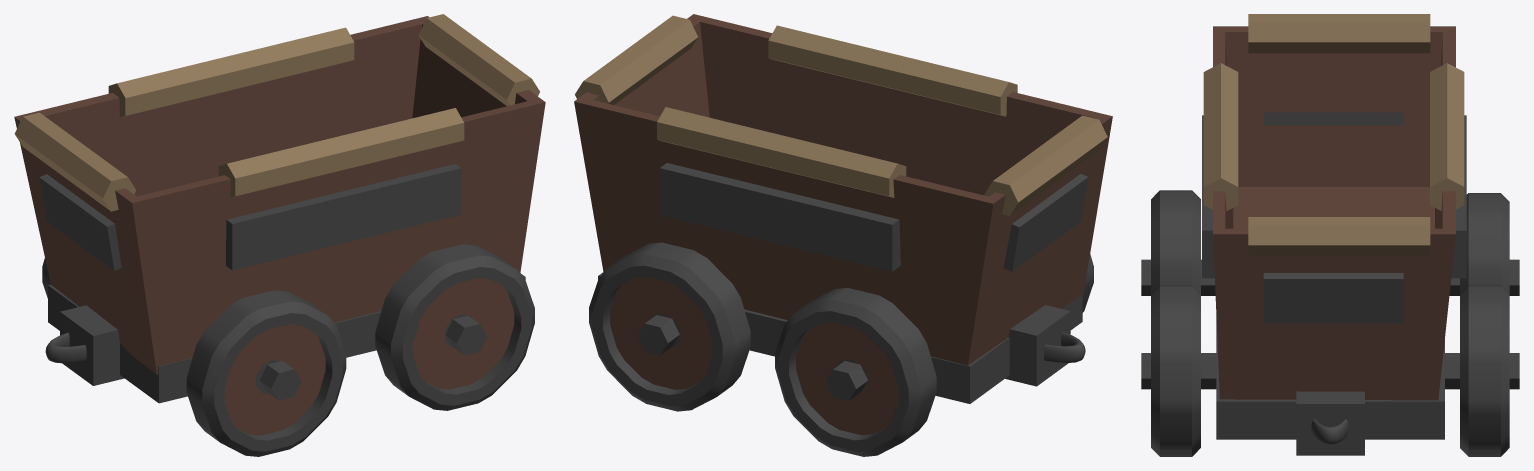
Rendered from mine_cart.fbx.
3 renders of one model, left to right at view 1: azimuth 30°, elevation 25°; view 2: azimuth 150°, elevation 25°; view 3: azimuth 270°, elevation 25°, orthographic. The views are drawn at different scales.
Parts seen in each view (by area): view 1: pCube12, pCylinder3, pCylinder5, pCube14, pCylinder12, pCylinder13, pCylinder10, pCylinder11, pCube1, pCube15, pCube2, pCylinder9 (+2 smaller); view 2: pCube12, pCylinder6, pCylinder7, pCube13, pCylinder13, pCylinder12, pCylinder10, pCube1, pCylinder11, pCube15, pCube2, pCylinder9 (+2 smaller); view 3: pCube12, pCylinder5, pCylinder6, pCylinder11, pCylinder10, pCube16, pCube1, pCylinder13, pCylinder3, pCylinder12, pCylinder7, pCube3 (+6 smaller).
Part boxes in pixels (bbox=[...]): pCube12: bbox=[14, 16, 545, 374]; pCylinder3: bbox=[186, 290, 346, 456]; pCylinder5: bbox=[375, 244, 534, 410]; pCube14: bbox=[226, 164, 461, 270]; pCylinder12: bbox=[108, 27, 354, 117]; pCylinder13: bbox=[218, 108, 464, 197]; pCylinder10: bbox=[14, 112, 136, 211]; pCylinder11: bbox=[418, 14, 539, 105]; pCube1: bbox=[48, 273, 525, 403]; pCube15: bbox=[39, 174, 121, 270]; pCube2: bbox=[60, 305, 124, 385]; pCylinder9: bbox=[259, 361, 301, 400]; pCube12: bbox=[574, 14, 1112, 365]; pCylinder6: bbox=[589, 242, 750, 411]; pCylinder7: bbox=[775, 288, 936, 456]; pCube13: bbox=[659, 163, 900, 271]; pCylinder13: bbox=[768, 25, 1017, 116]; pCylinder12: bbox=[657, 107, 906, 197]; pCylinder10: bbox=[984, 115, 1107, 215]; pCube1: bbox=[598, 272, 1082, 403]; pCylinder11: bbox=[575, 15, 697, 104]; pCube15: bbox=[1003, 174, 1088, 271]; pCube2: bbox=[1005, 305, 1070, 386]; pCylinder9: bbox=[825, 361, 867, 401]; pCube12: bbox=[1213, 26, 1455, 400]; pCylinder5: bbox=[1151, 285, 1200, 456]; pCylinder6: bbox=[1460, 285, 1509, 456]; pCylinder11: bbox=[1248, 217, 1430, 256]; pCylinder10: bbox=[1248, 14, 1430, 53]; pCube16: bbox=[1263, 273, 1403, 323]; pCube1: bbox=[1216, 317, 1444, 439]; pCylinder13: bbox=[1203, 63, 1238, 211]; pCylinder3: bbox=[1151, 190, 1200, 293]; pCylinder12: bbox=[1430, 63, 1464, 210]; pCylinder7: bbox=[1460, 193, 1509, 293]; pCube3: bbox=[1296, 391, 1364, 455].
Size of the model in its own units: 2.04 by 1.13 by 1.39.
